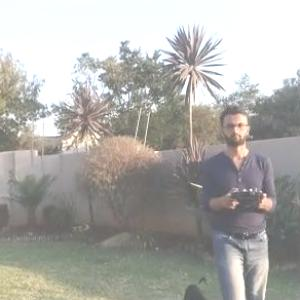follow: (200, 101, 282, 299)
null: (179, 271, 212, 299)
